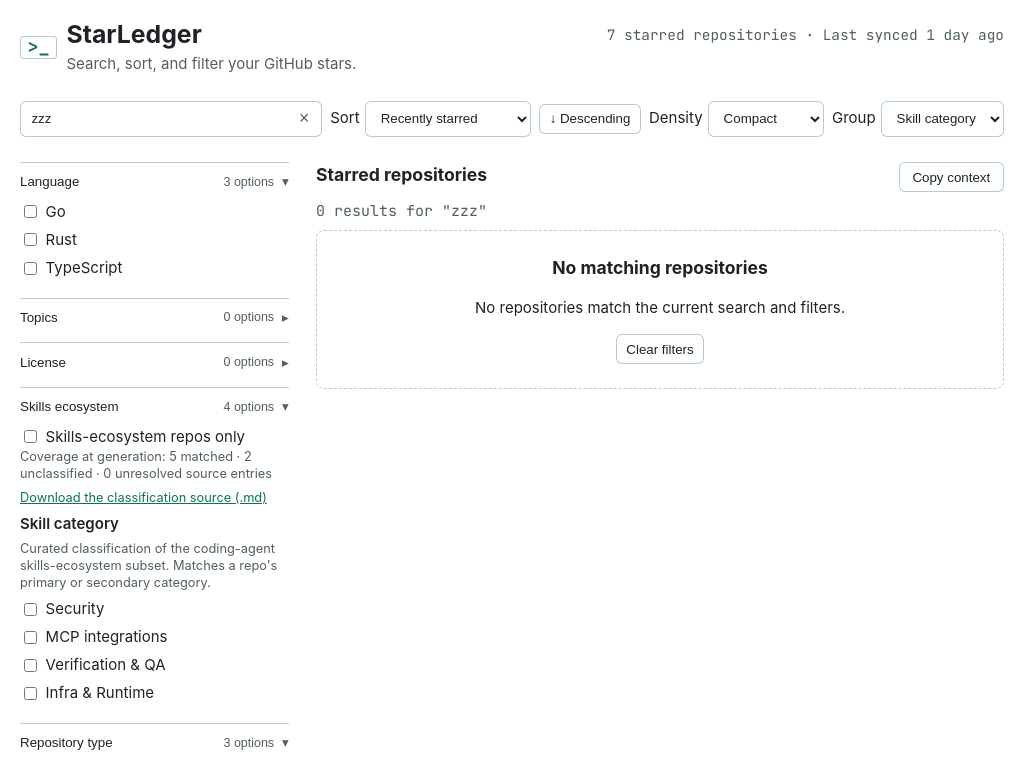
Test: M4.1 requested vs effective — fail-soft matrix (§15.6) › M41-FS-4: ready + zero results ⇒ the existing NoResults, not E-G
The image size is (1024, 763).
Check: the heading "No matching repositories" is shown, box [552,258,768,278]
Check: the button "Show as list" is not shown
// Clear filters keeps group and returns to the grouped full set
Click the button "Clear filters".
click(660, 349)  # box [616,334,704,364]
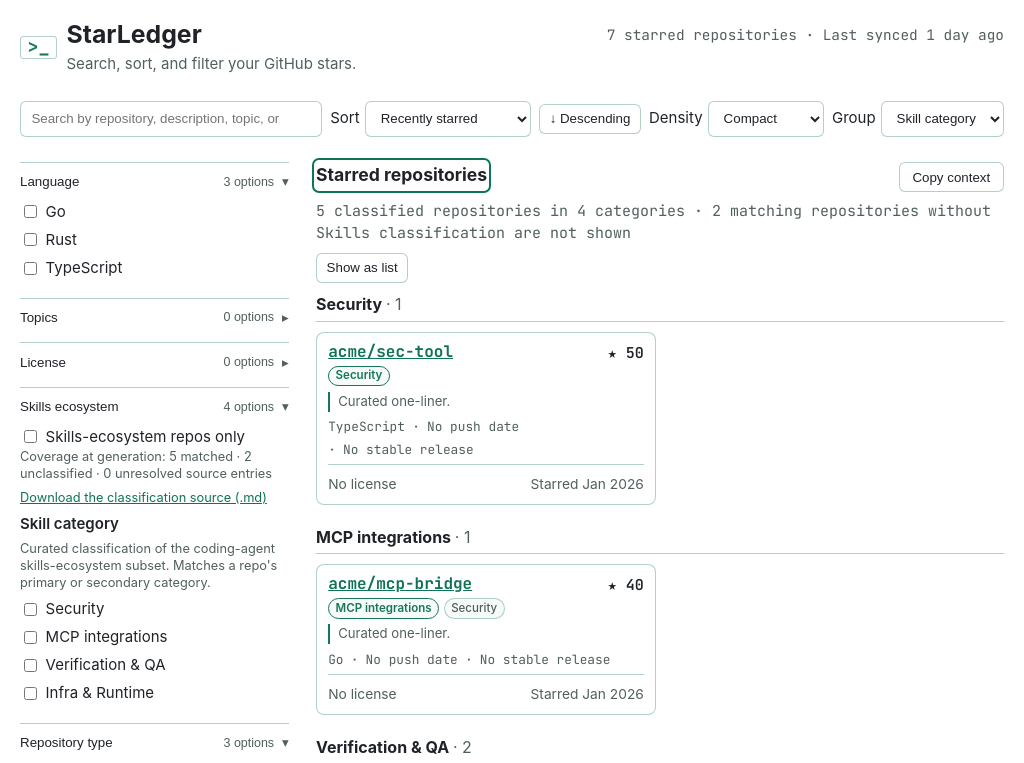
Check: the number of elements with class "result-group" is 4
